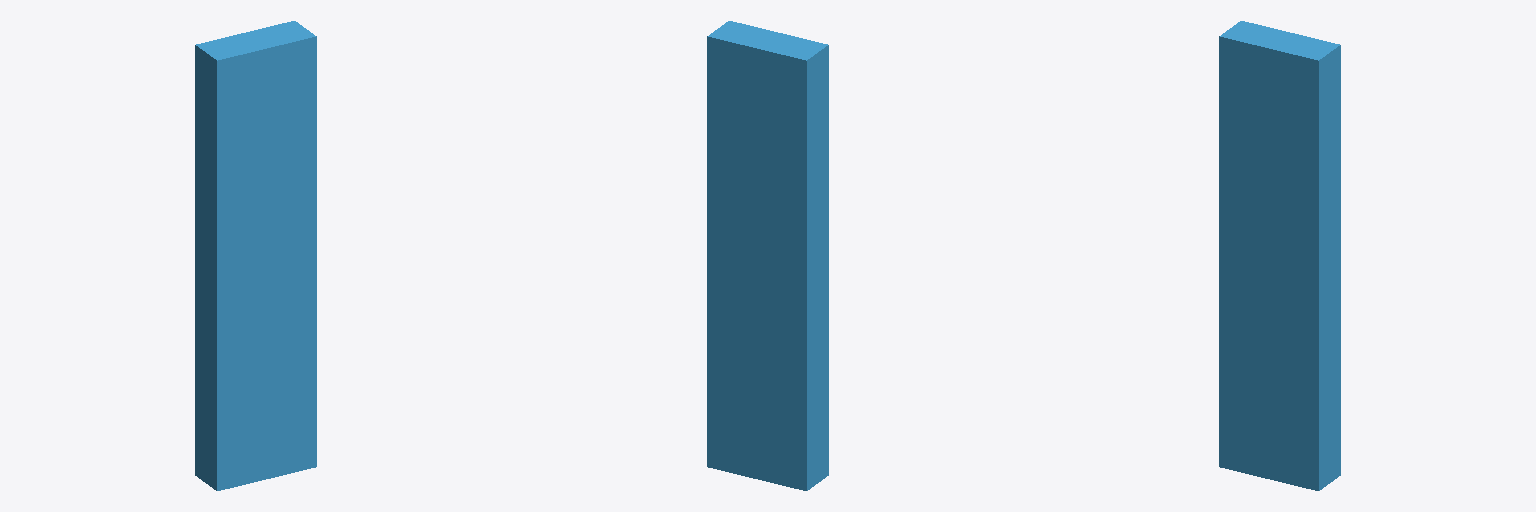
robot.urdf — key:
<?xml version="1.0"?>
<robot name="key">
  <link name="world" />

  <link name="key">
    <visual>
      <geometry>
	<mesh filename="package://lock_key/mesh/key.STL" />
      </geometry>
      <!--Need to create my own mesh files-->
    </visual>
    <collision>
      <geometry>
	<mesh filename="package://lock_key/mesh/key.STL" />
      </geometry>
    </collision>
    <!-- PLACEHOLDER VALUES -->
    <inertial>
      <mass value="0.1" />
      <inertia ixx="0.1" ixy="0.1" ixz="0.1"
	       iyy="0.1" iyz="0.1"
	       izz="0.1" />
    </inertial>
  </link>

  <joint name="table_key" type="floating">
    <origin rpy="0 0 0" xyz="0 0 0.05" />
    <parent link="world" />
    <child link="key" />
  </joint>

</robot>

--- Render facts (derived) ---
The picture shows the robot from 3 angles, left to right: view 1: azimuth 30°, elevation 25°; view 2: azimuth 150°, elevation 25°; view 3: azimuth 330°, elevation 25°; orthographic projection.
Model key with 2 links and 1 joints (1 floating), rooted at world, posed all joints at 0.
Visible links, largest first — view 1: key; view 2: key; view 3: key.
Boxes of the visible links, x1,y1,x2,y2 form: key: [195, 21, 316, 490]; key: [707, 21, 828, 490]; key: [1219, 21, 1340, 490].
Size in the robot's own frame: 0.0145 by 0.0055 by 0.06 metres.
Meshes: 1 distinct files referenced, 1 mesh visuals loaded (1 binary STL).